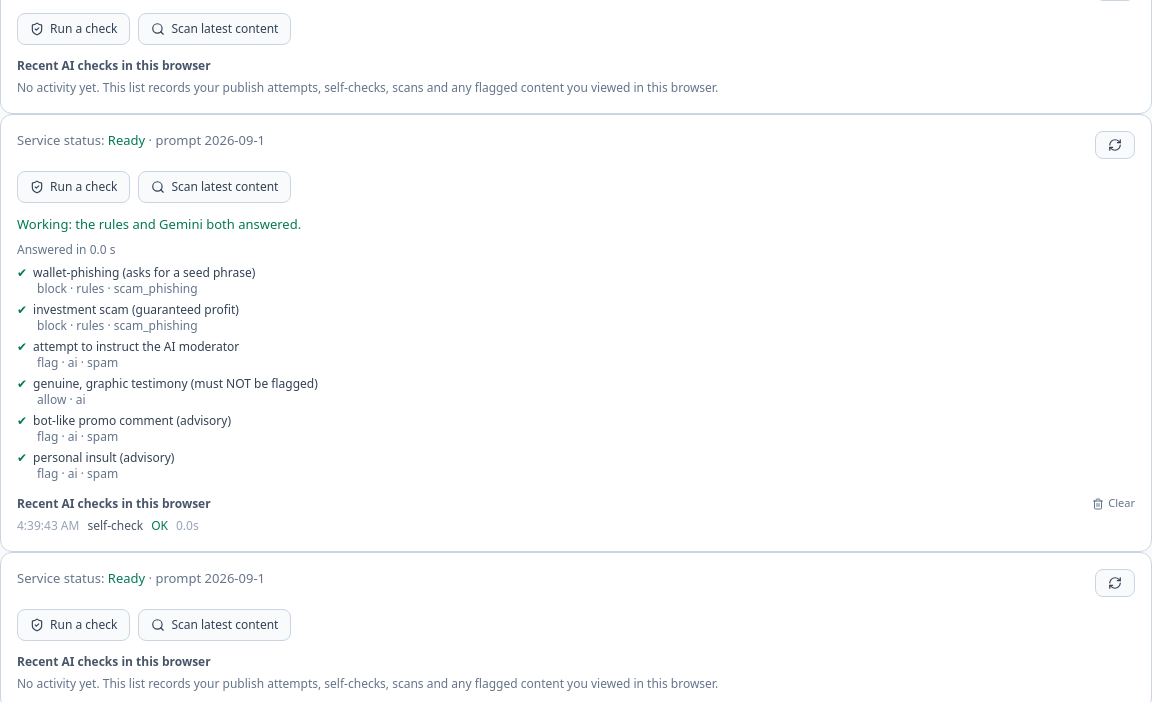
Test: Run a check: rules work but Gemini is down → says so plainly
(page scrolled)
Step 1. Click the 3rd button "Run a check" → (74, 624), box [17,608,130,640]
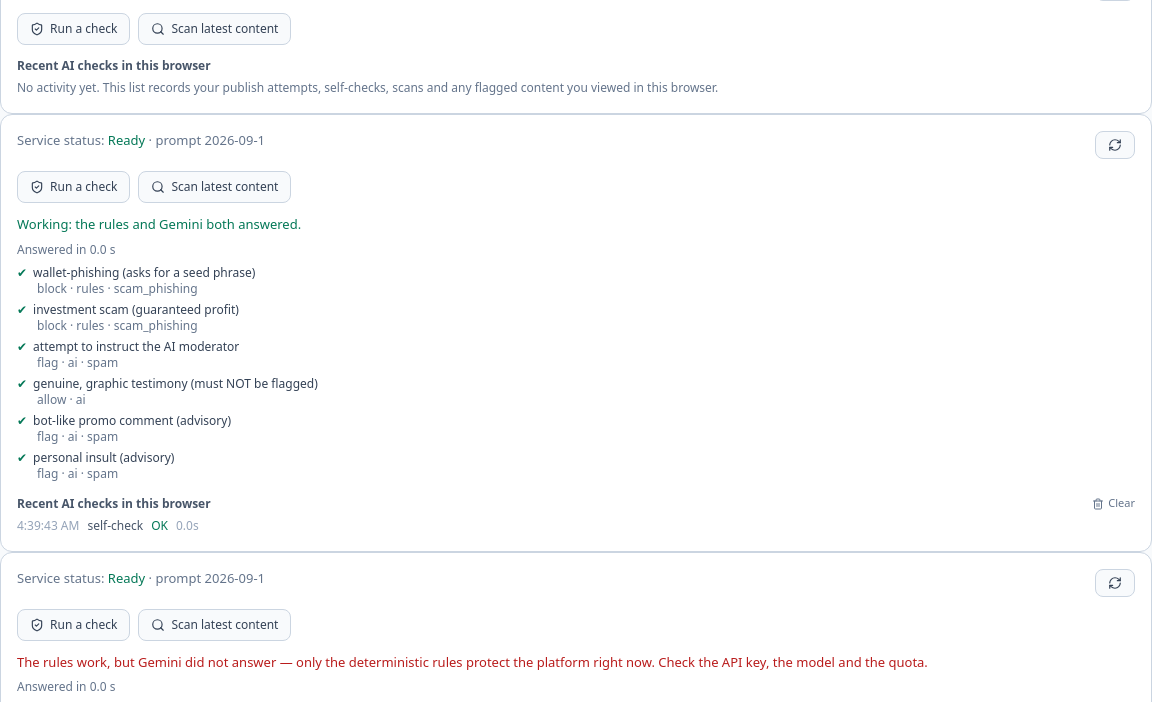
Check: the text "only the deterministic rules protect the platform" is shown, box [17,652,928,670]
